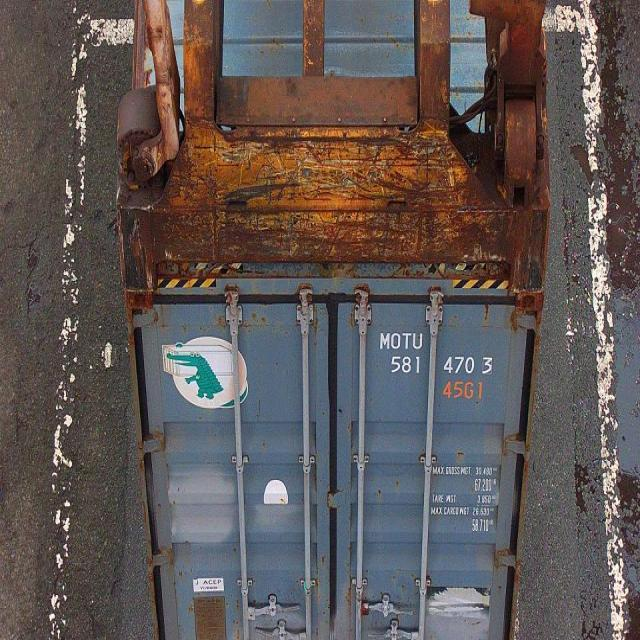ISO: (442, 378, 487, 407)
container_number: (378, 327, 499, 376)
